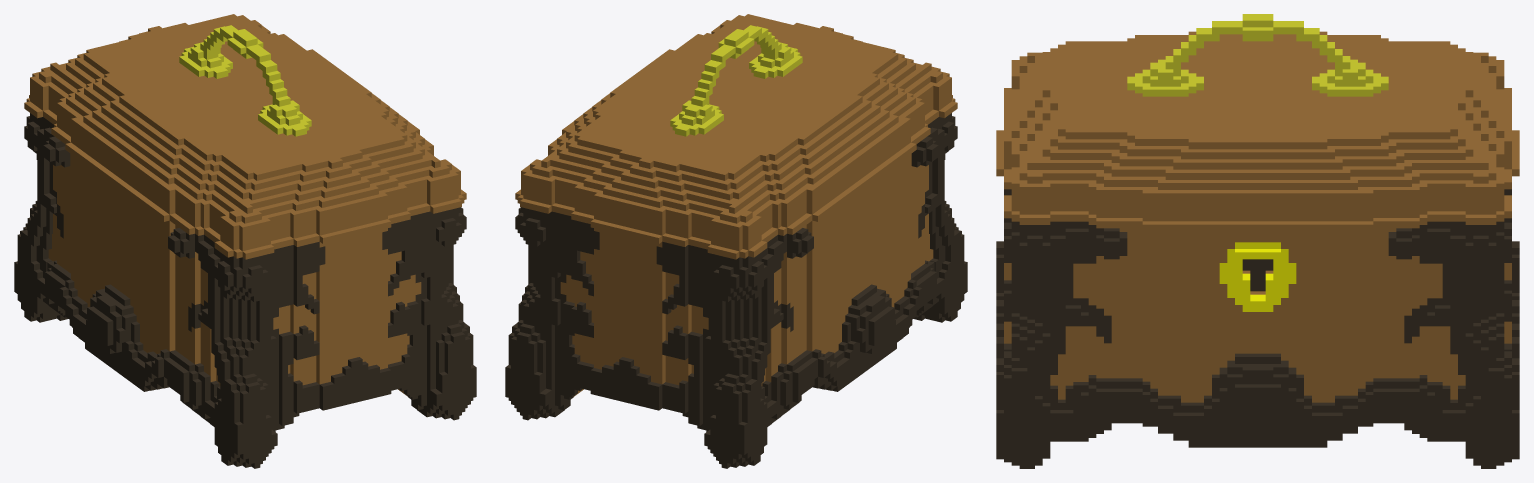
File: gift.obj
3 renders of one model, left to right at view 1: azimuth 30°, elevation 25°; view 2: azimuth 150°, elevation 25°; view 3: azimuth 270°, elevation 25°, orthographic. The views are drawn at different scales.
Bounding box in the file's own units: 5.2 × 5.5 × 6.8.
Materials: 1 (1 with a texture image).
